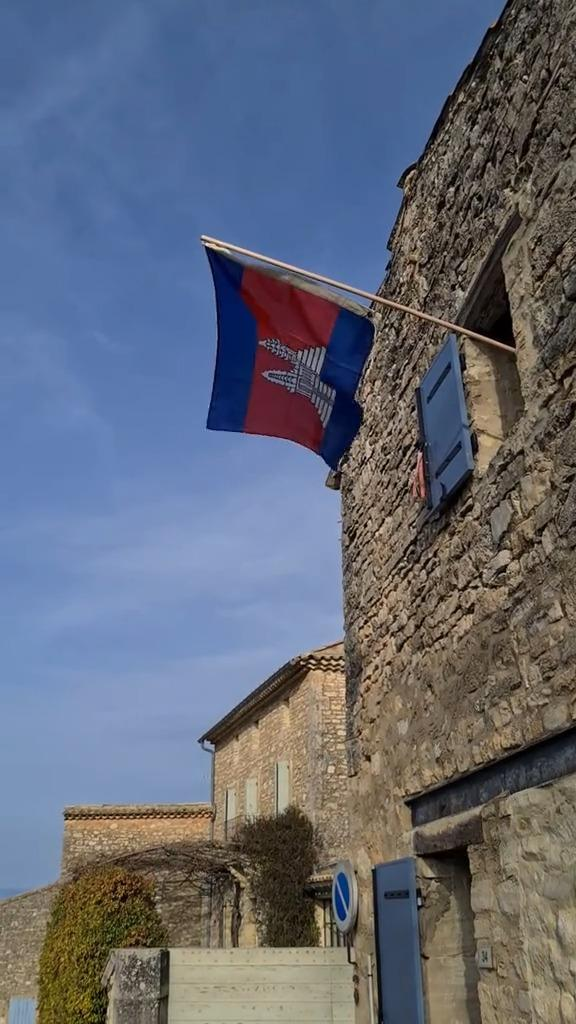Cambodia: (204, 249, 375, 471)
